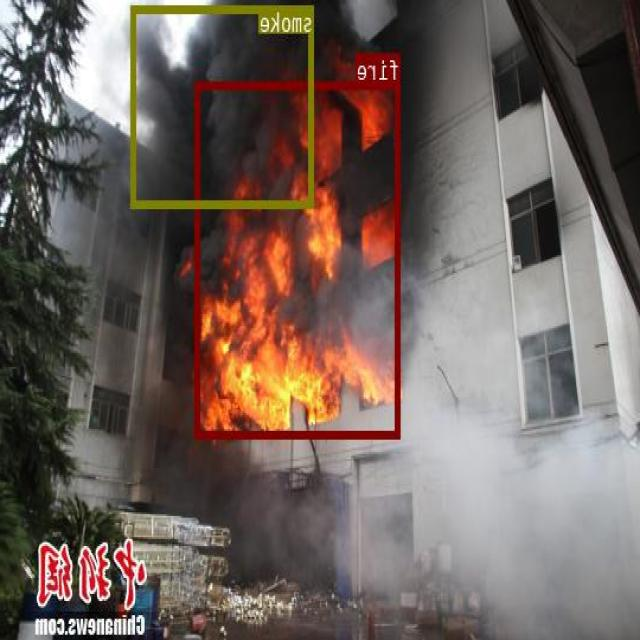fire: (196, 80, 402, 437)
smoke: (133, 4, 314, 207)
